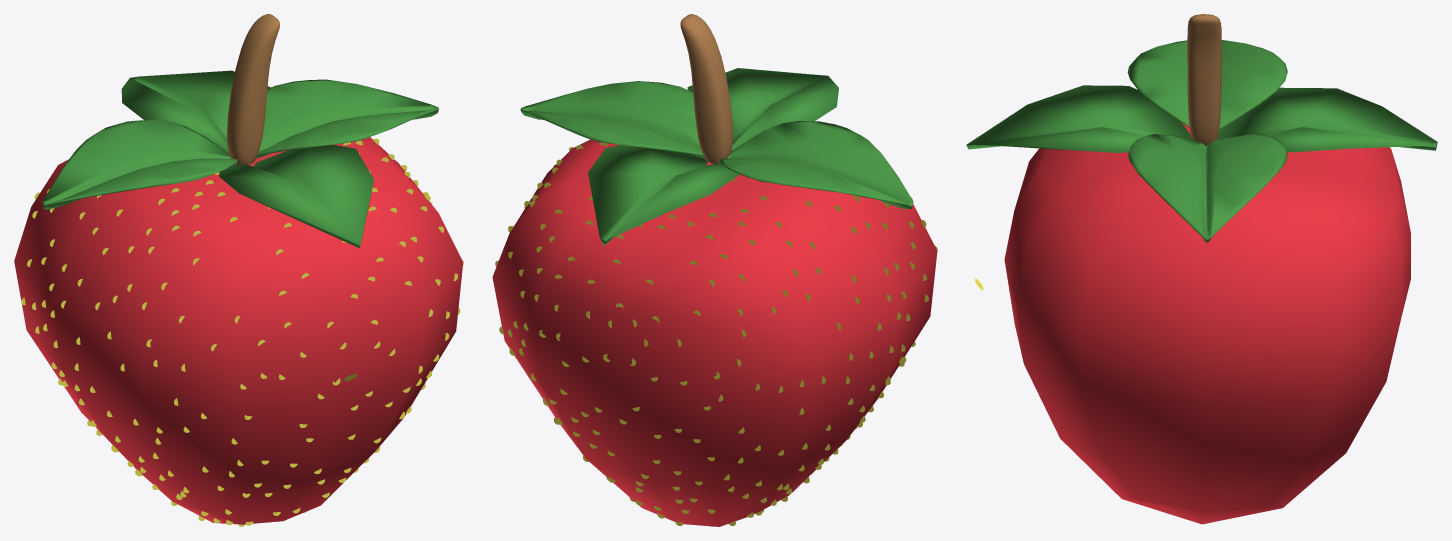
The model's file is FresaSanadora 1.fbx.
The picture shows the model from 3 angles, left to right: view 1: azimuth 30°, elevation 25°; view 2: azimuth 150°, elevation 25°; view 3: azimuth 270°, elevation 25°; orthographic projection. The views are drawn at different scales.
Visible parts, largest first — view 1: Cube.001, Plane.001, Plane, Cube.002; view 2: Cube.001, Plane.001, Plane, Cube.002; view 3: Cube.001, Plane, Plane.001, Cube.002.
Part boxes in pixels (<box>): Cube.001: <box>14,137,463,526</box>; Plane.001: <box>42,79,438,209</box>; Plane: <box>121,70,373,248</box>; Cube.002: <box>227,14,279,164</box>; Cube.001: <box>492,139,937,526</box>; Plane.001: <box>520,81,913,208</box>; Plane: <box>588,68,838,245</box>; Cube.002: <box>680,14,732,163</box>; Cube.001: <box>1004,123,1410,524</box>; Plane: <box>966,85,1437,152</box>; Plane.001: <box>1127,40,1287,242</box>; Cube.002: <box>1187,14,1221,146</box>.
Size of the model in its own units: 292 by 351 by 291.
